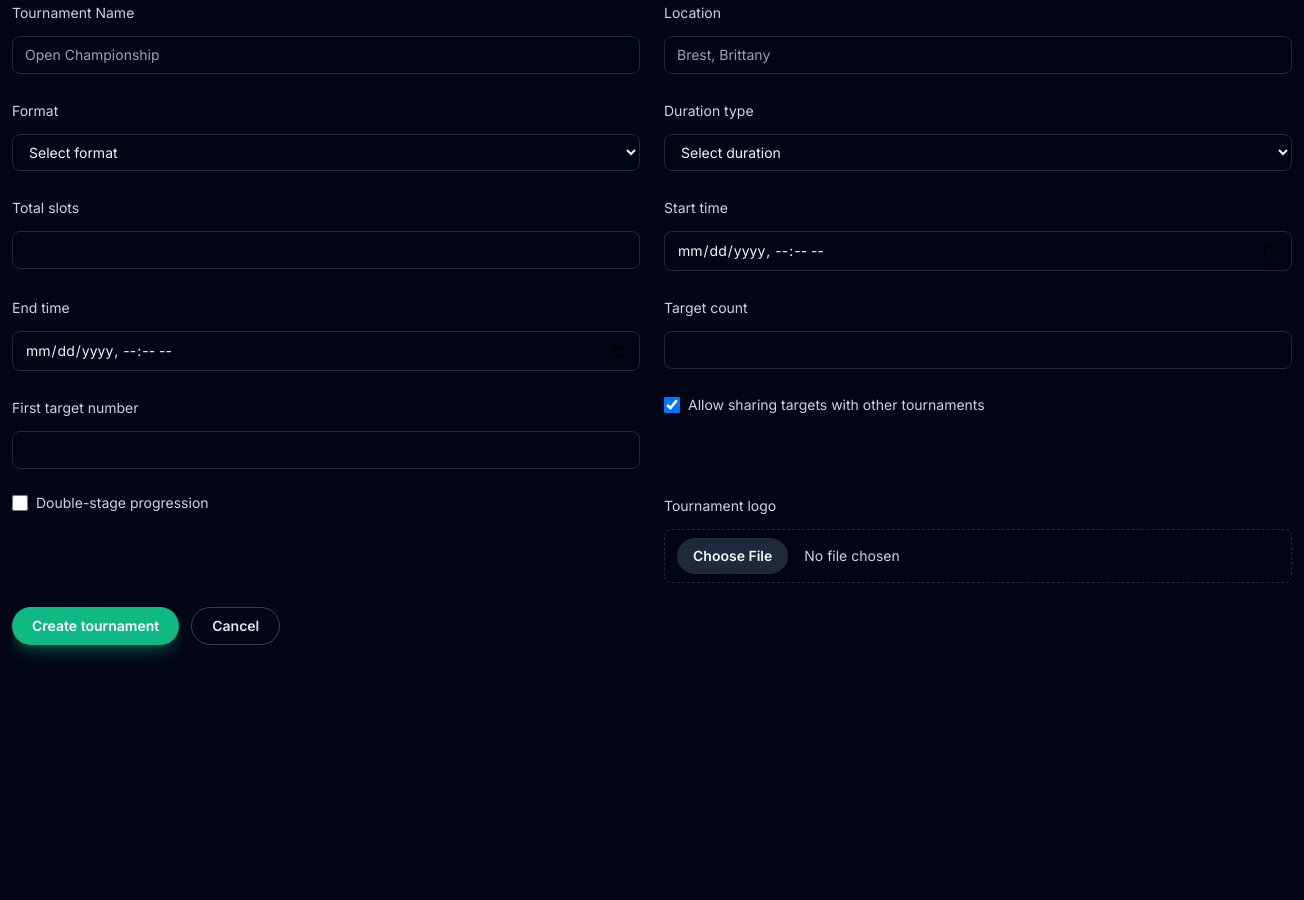
TournamentForm validation fields › should validate participant count
// Test minimum
Step 1. Type "1" into the number field labelled "Total slots" → (326, 250), box [12, 231, 640, 269]
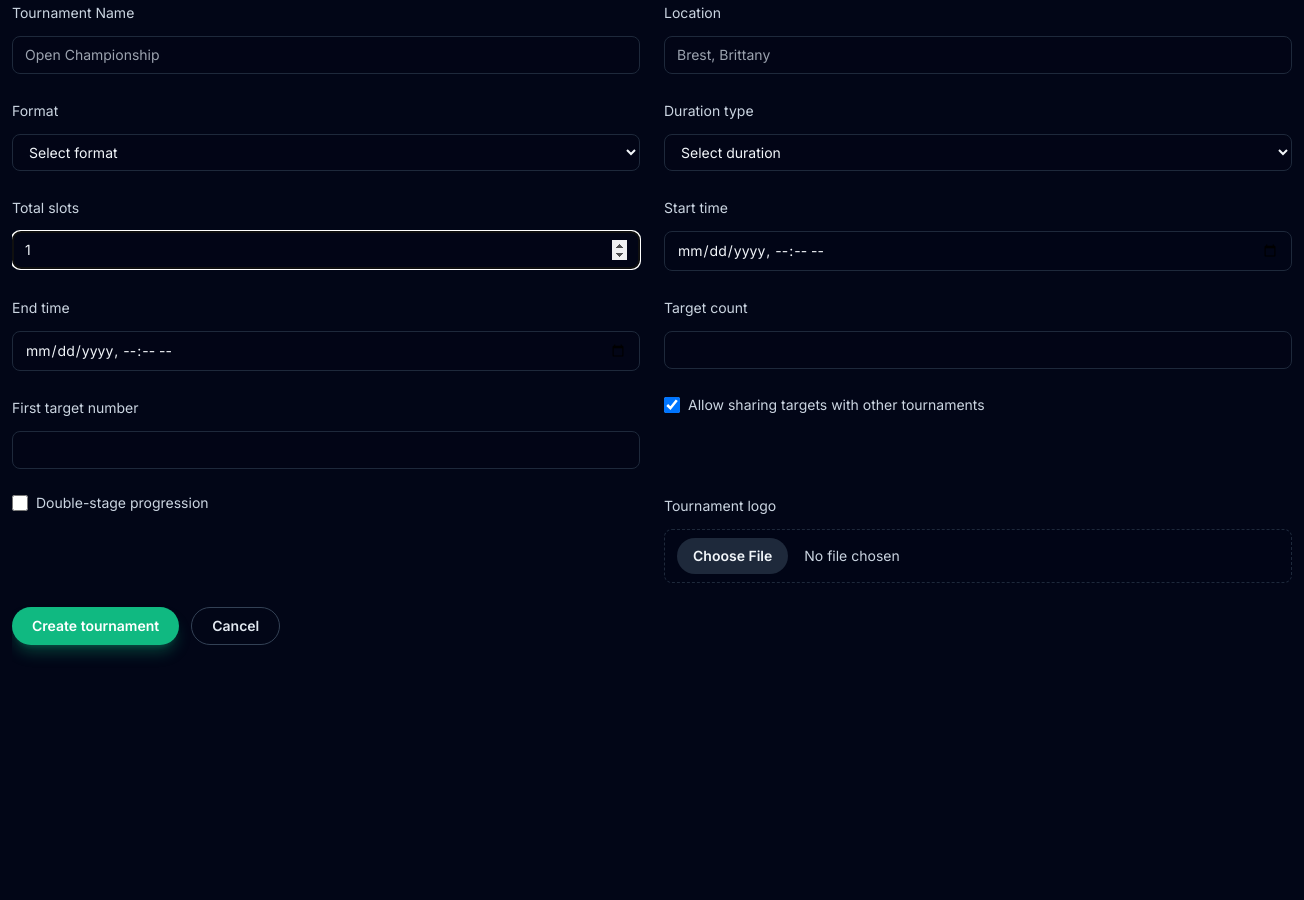
Step 2. Press Tab
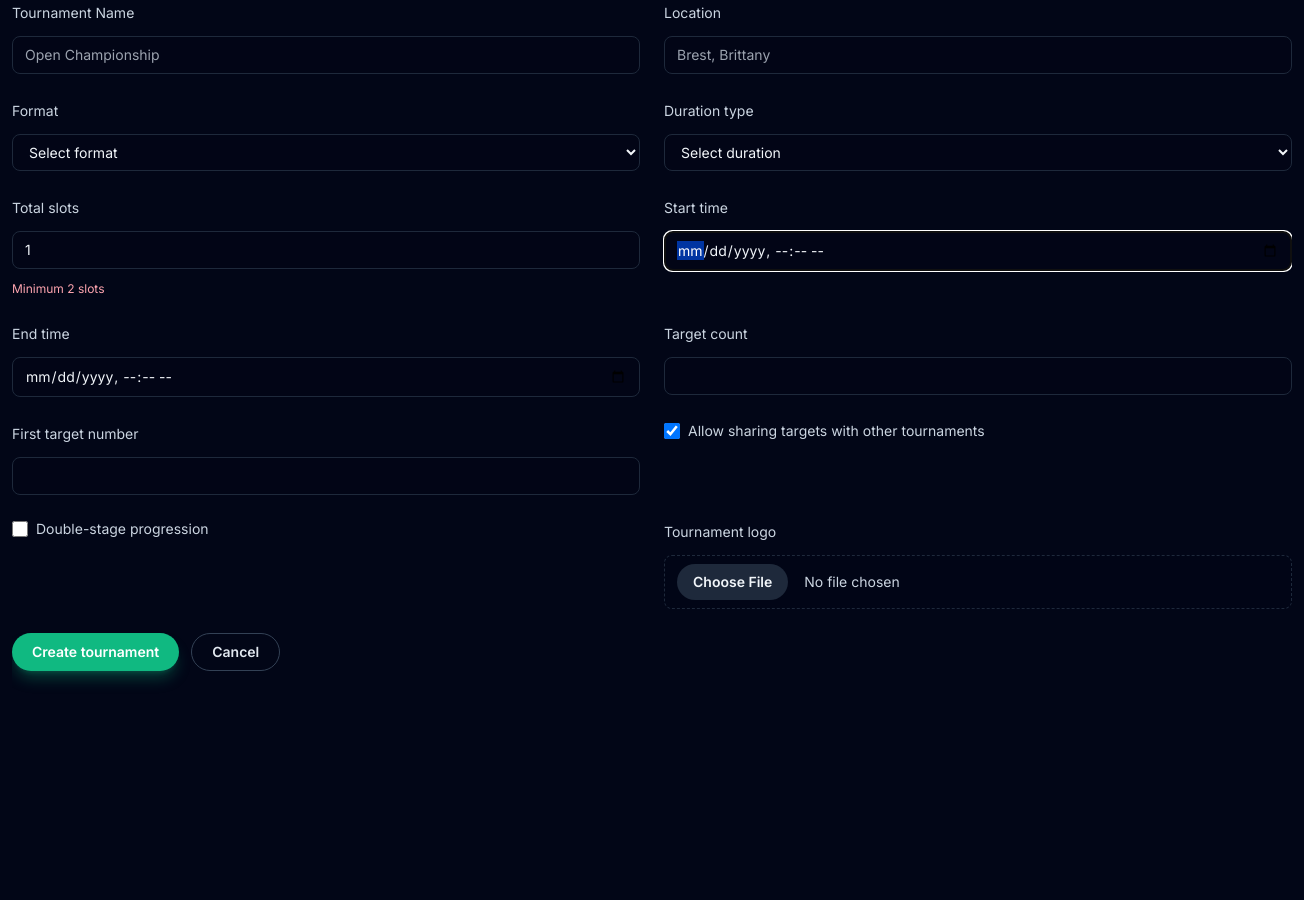
Expected: the text "Minimum 2 slots" is shown, [12, 281, 104, 296]
// Test maximum
Step 3. Replace the text in the number field labelled "Total slots" with "513" → (326, 250), box [12, 231, 640, 269]
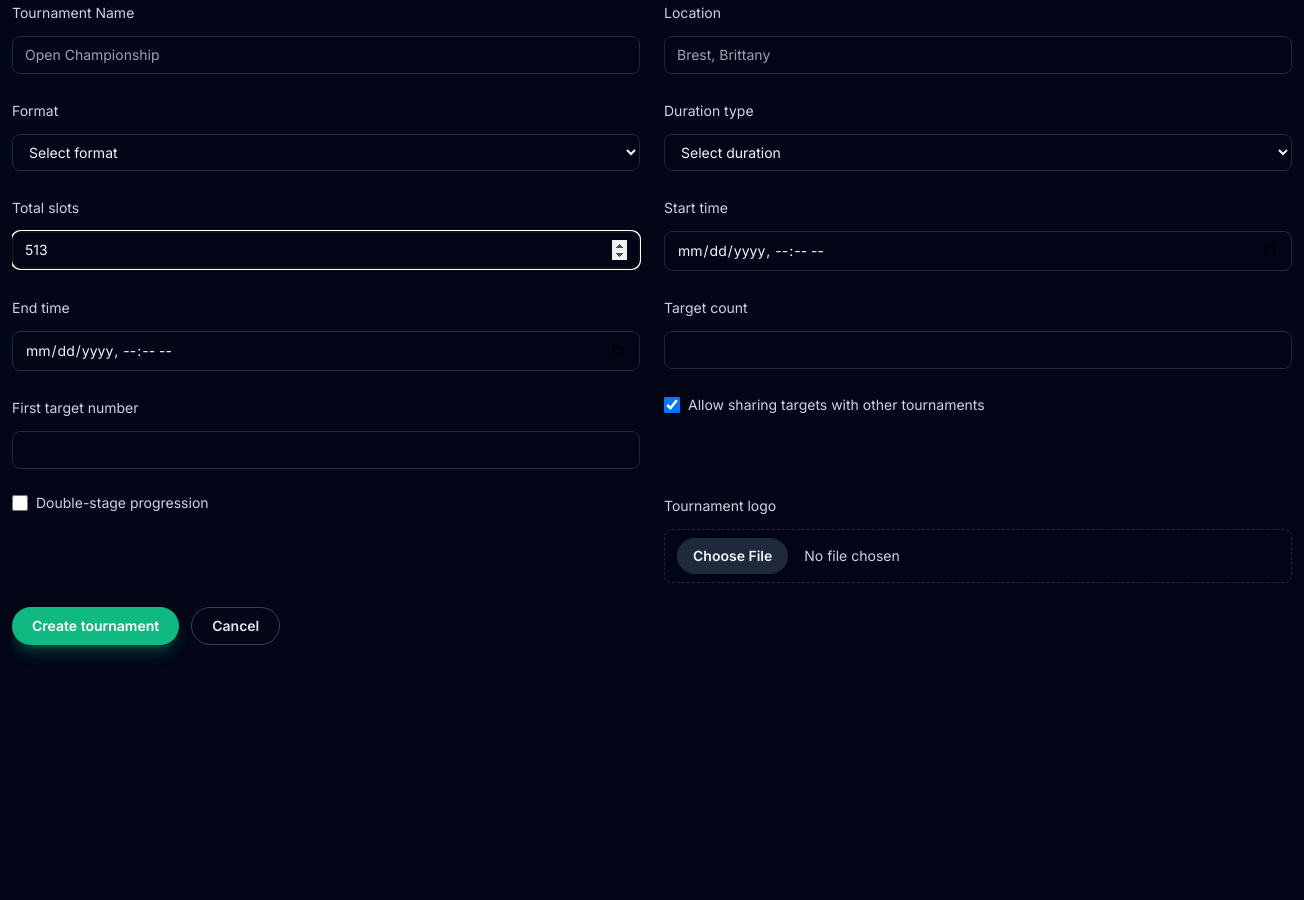
Step 4. Press Tab
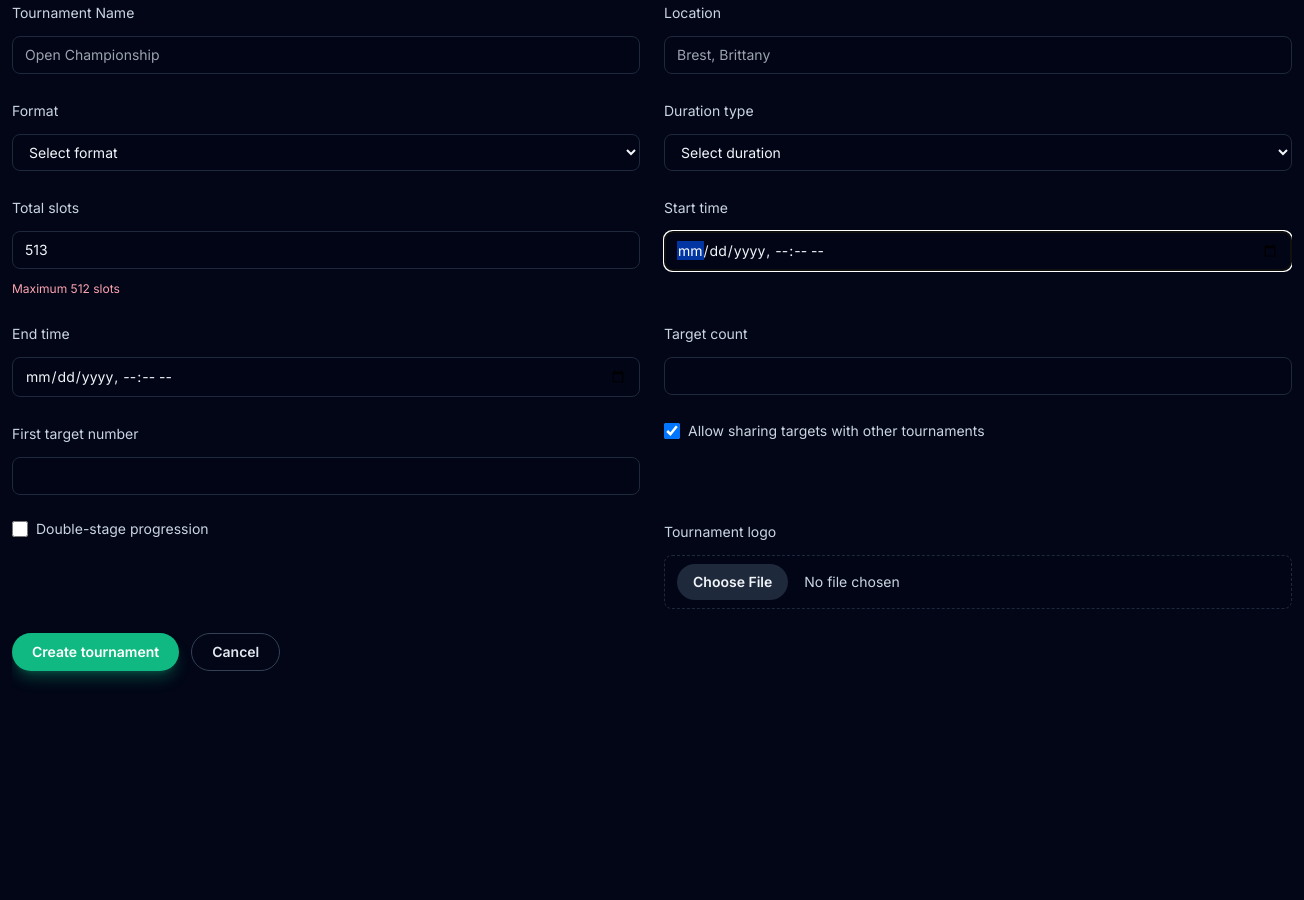
Expected: the text "Maximum 512 slots" is shown, [12, 281, 120, 296]
